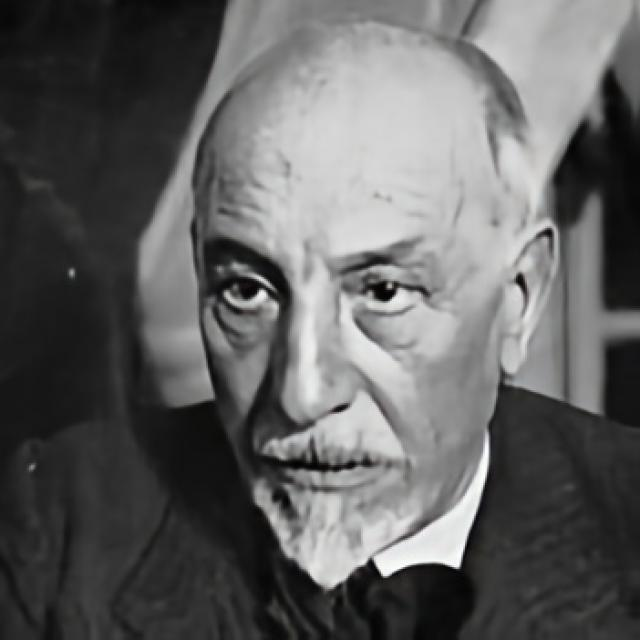anger: (198, 93, 494, 567)
